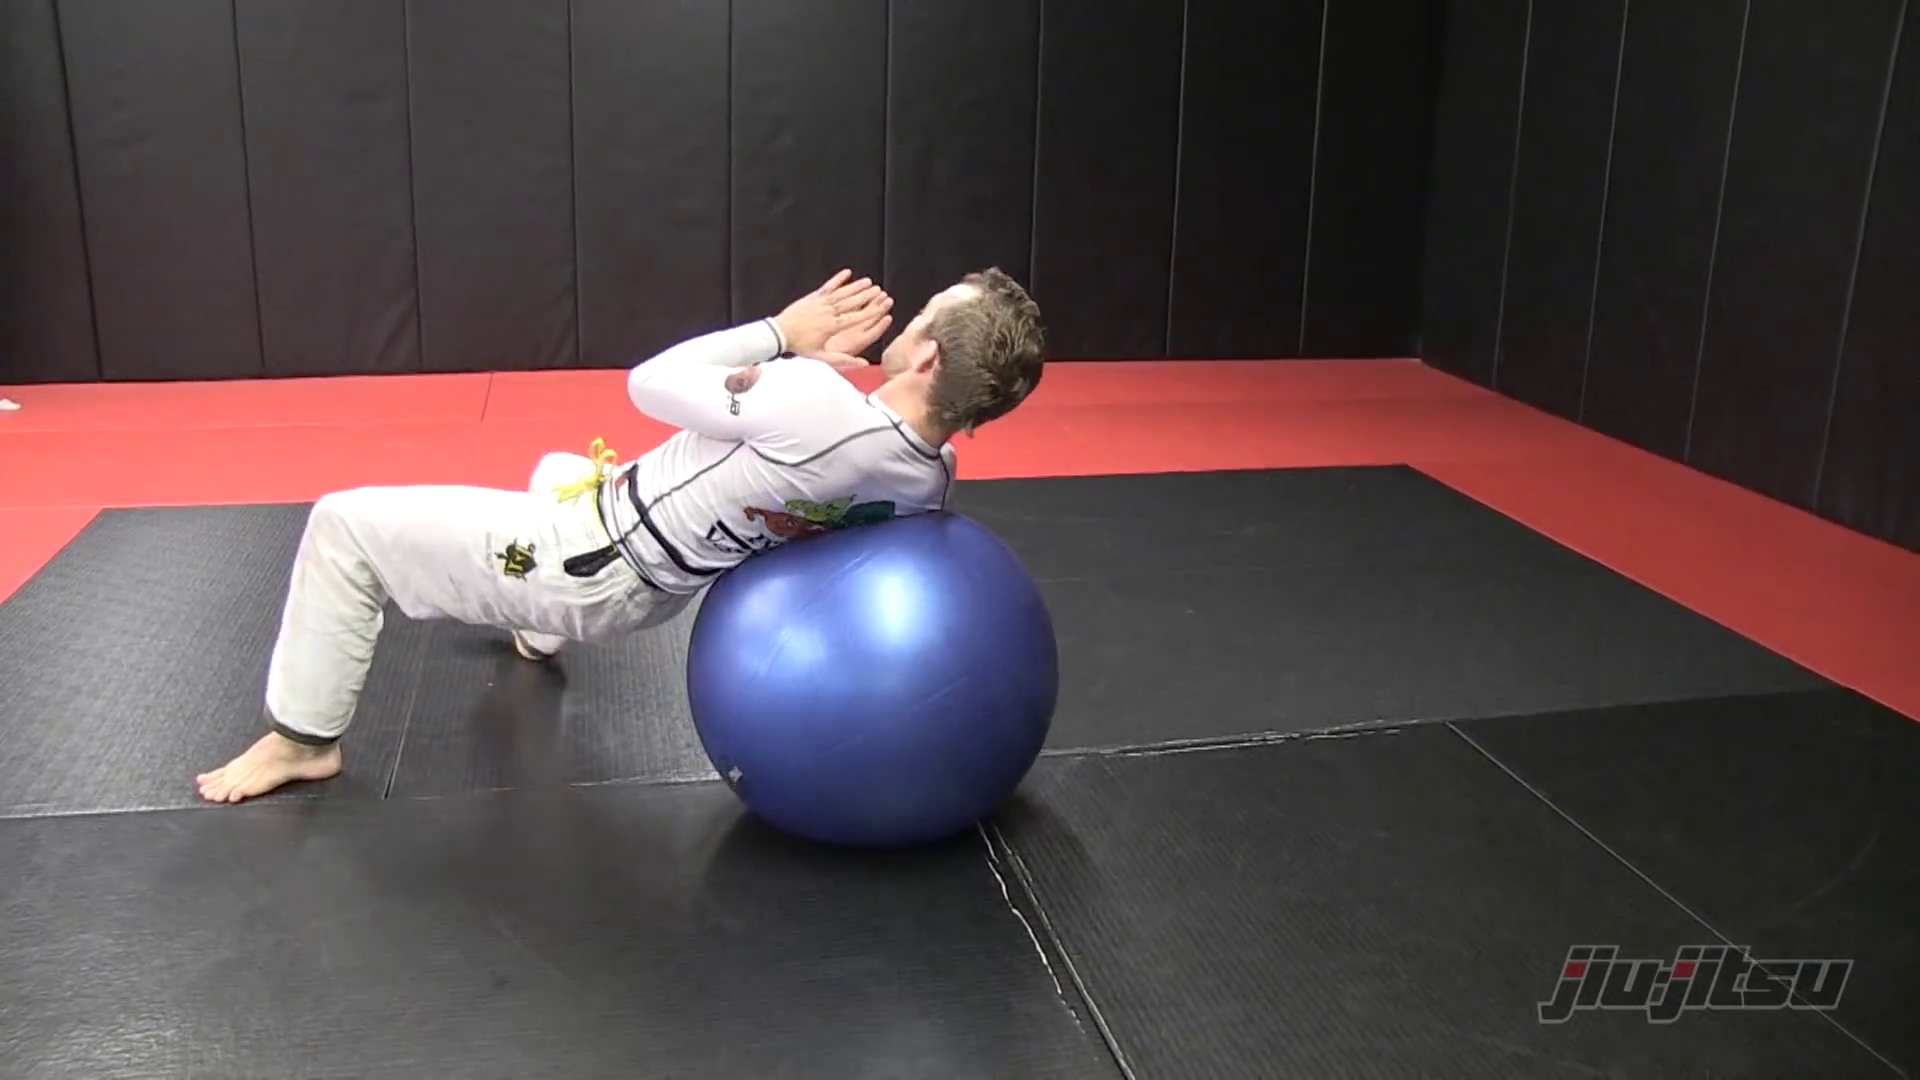yogaball: (687, 492, 1065, 868)
